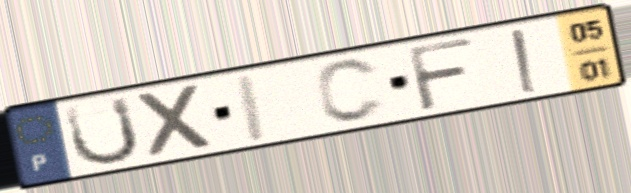C: (312, 56, 390, 126)
F: (403, 35, 477, 114)
I: (232, 70, 272, 146), (506, 25, 543, 97)
U: (60, 93, 144, 169)
X: (132, 80, 219, 162)
